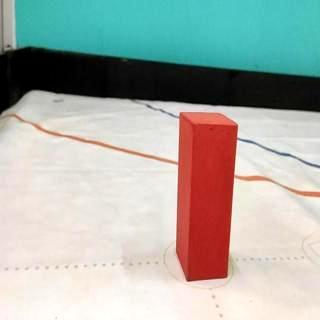redbox: (174, 112, 238, 280)
